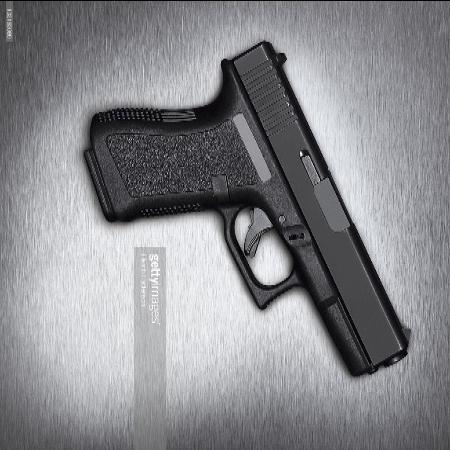Pistol: (86, 35, 414, 377)
